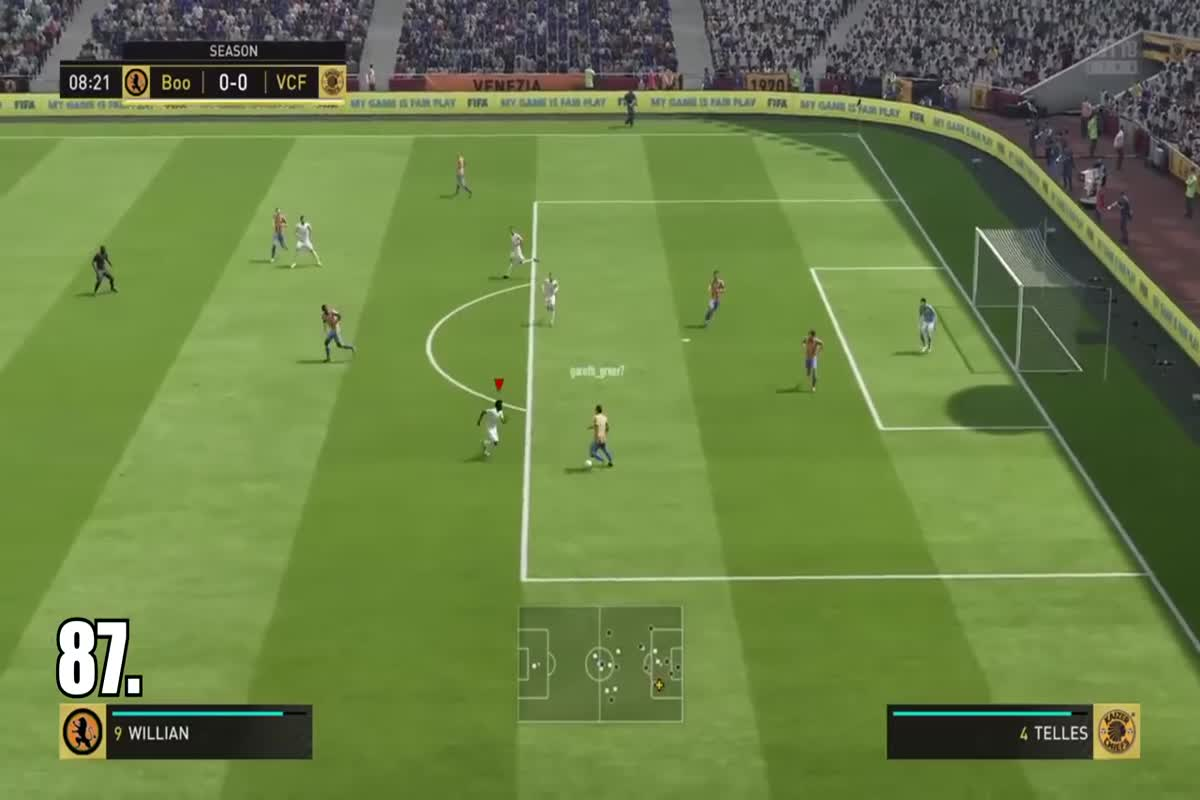ball: (575, 454, 599, 474)
